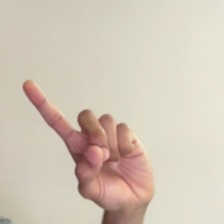Z: (11, 71, 175, 214)
